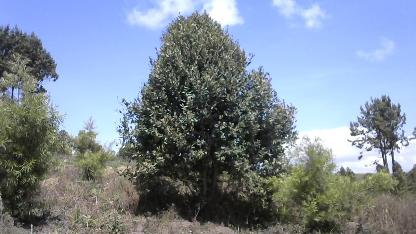tree: (115, 6, 297, 227)
